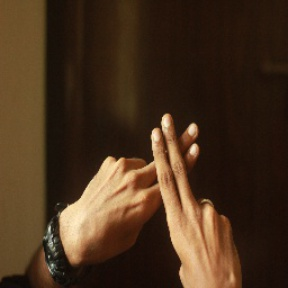F: (117, 98, 229, 240)
